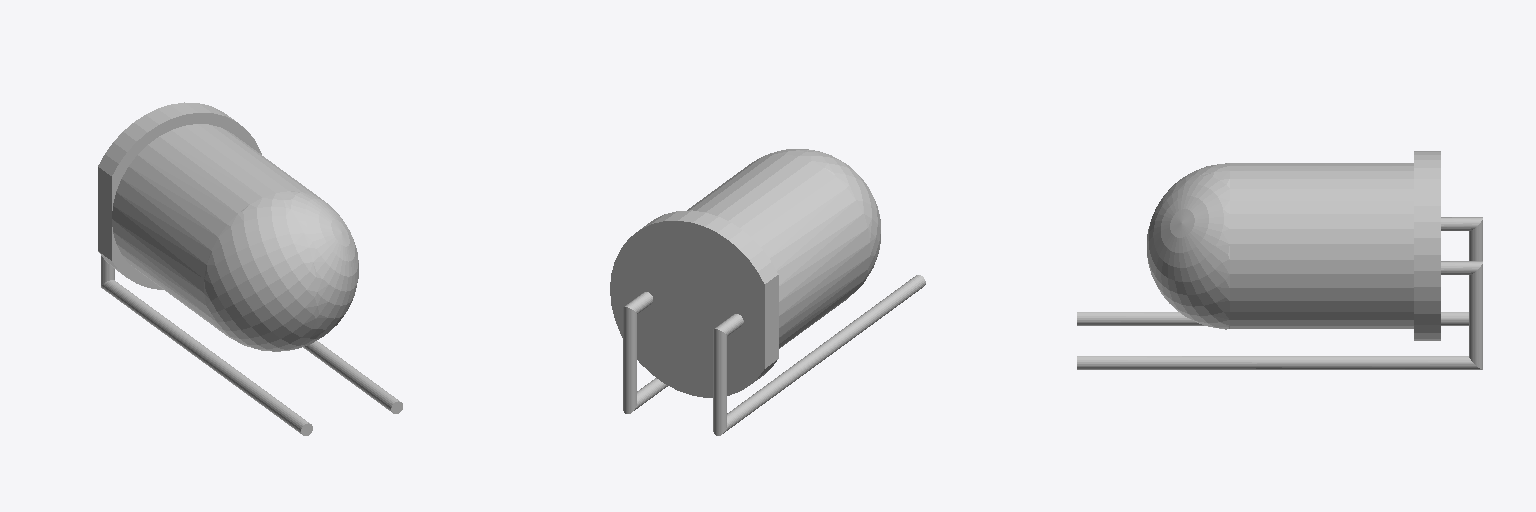
File: LedBentLeads-CutLeft-Red.obj
The picture shows the model from 3 angles: view 1: azimuth 30°, elevation 25°; view 2: azimuth 150°, elevation 25°; view 3: azimuth 270°, elevation 25°; orthographic projection.
Visible parts, largest first — view 1: CapCathode, CapAnode, Cathode, Anode; view 2: CapCathode, CapAnode, Cathode, Anode; view 3: CapAnode, Anode, Cathode, CapCathode.
Boxes of the visible parts, box(x1,y1,x2,y2) form: CapCathode: box(98, 105, 316, 351); CapAnode: box(171, 102, 358, 348); Cathode: box(101, 256, 312, 435); Anode: box(303, 341, 402, 413); CapCathode: box(693, 150, 880, 397); CapAnode: box(610, 149, 814, 395); Cathode: box(713, 275, 925, 435); Anode: box(623, 292, 667, 413); CapAnode: box(1147, 160, 1440, 340); Anode: box(1077, 261, 1482, 369); Cathode: box(1077, 217, 1482, 325); CapCathode: box(1147, 151, 1440, 235).
Size of the model in its own units: 5.15 by 5.95 by 11.7.